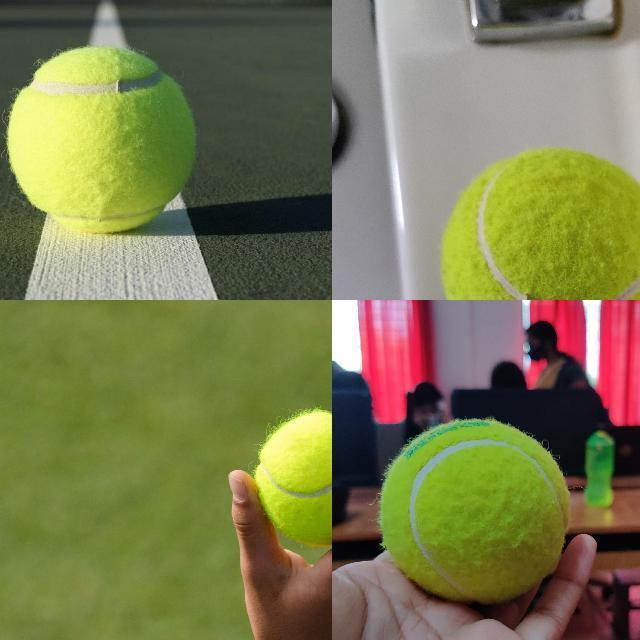tennis-ball: (379, 418, 569, 604), (6, 47, 196, 230), (435, 145, 639, 299), (254, 410, 331, 546)
